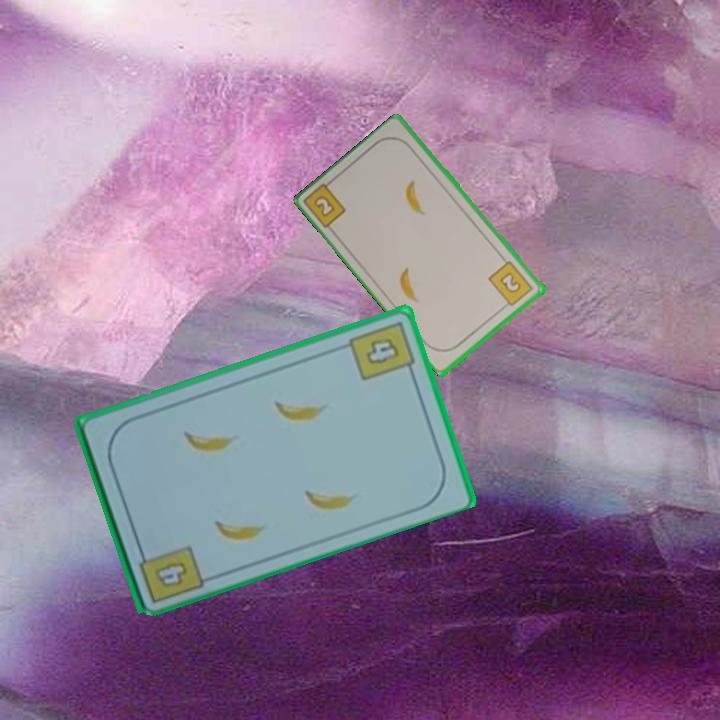2b: (485, 257, 536, 312), (302, 176, 349, 231)
4b: (345, 317, 418, 383), (135, 541, 206, 606)
